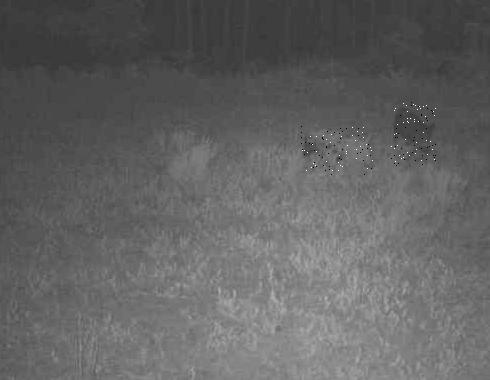Hog: (300, 126, 372, 175), (391, 102, 437, 167)
